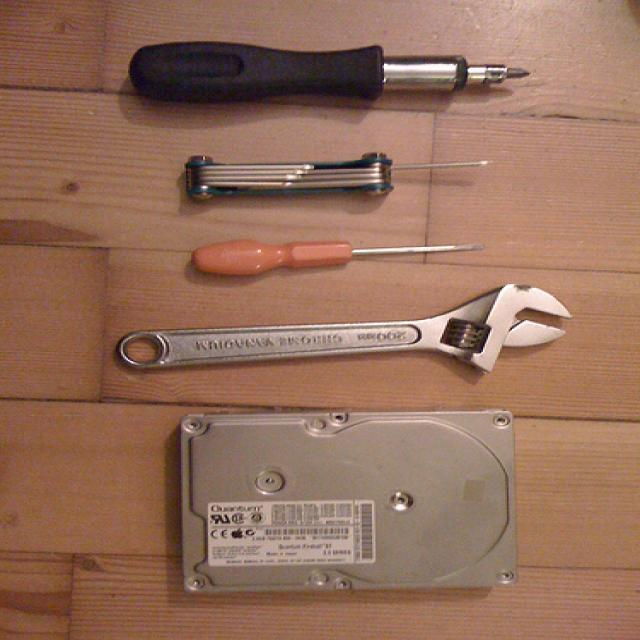wrench: (117, 273, 632, 398)
